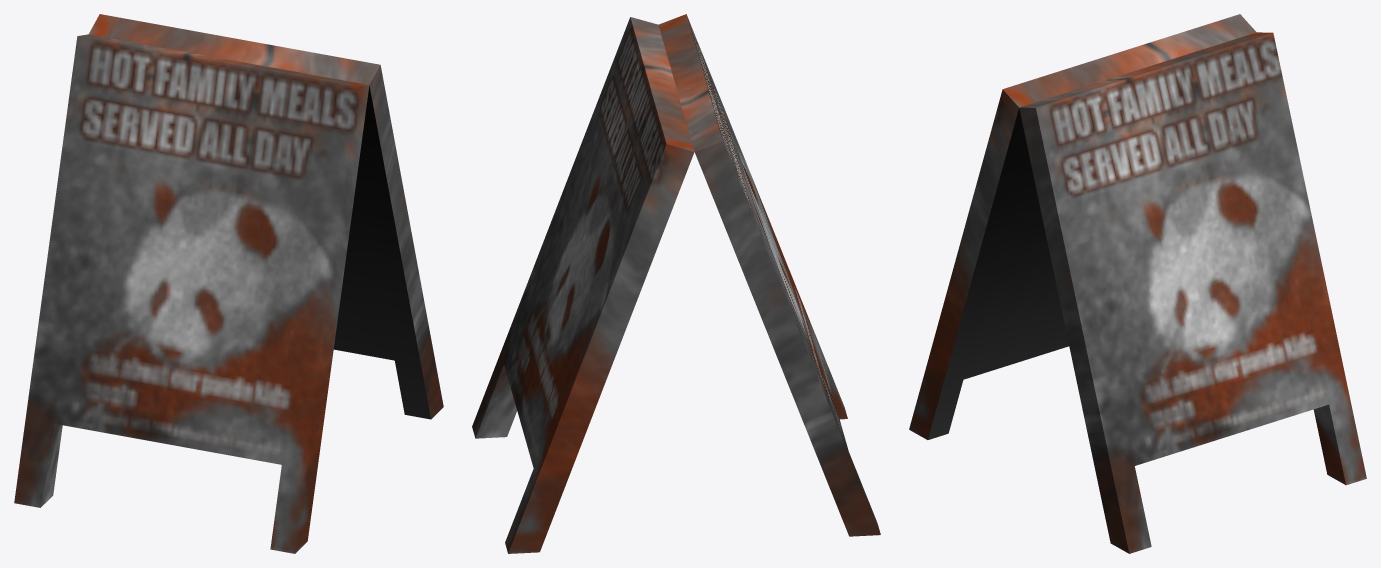
File: Sign01.fbx
The picture shows the model from 3 angles, left to right: view 1: azimuth 30°, elevation 25°; view 2: azimuth 150°, elevation 25°; view 3: azimuth 270°, elevation 25°; orthographic projection. The views are drawn at different scales.
Visible parts, largest first — view 1: Empty_Mesh; view 2: Empty_Mesh; view 3: Empty_Mesh.
Boxes of the visible parts, x1,y1,x2,y2 form: Empty_Mesh: [14, 14, 443, 553]; Empty_Mesh: [472, 14, 880, 553]; Empty_Mesh: [909, 14, 1366, 553].
Bounding box in the file's own units: 90.36 × 83.05 × 87.65.
